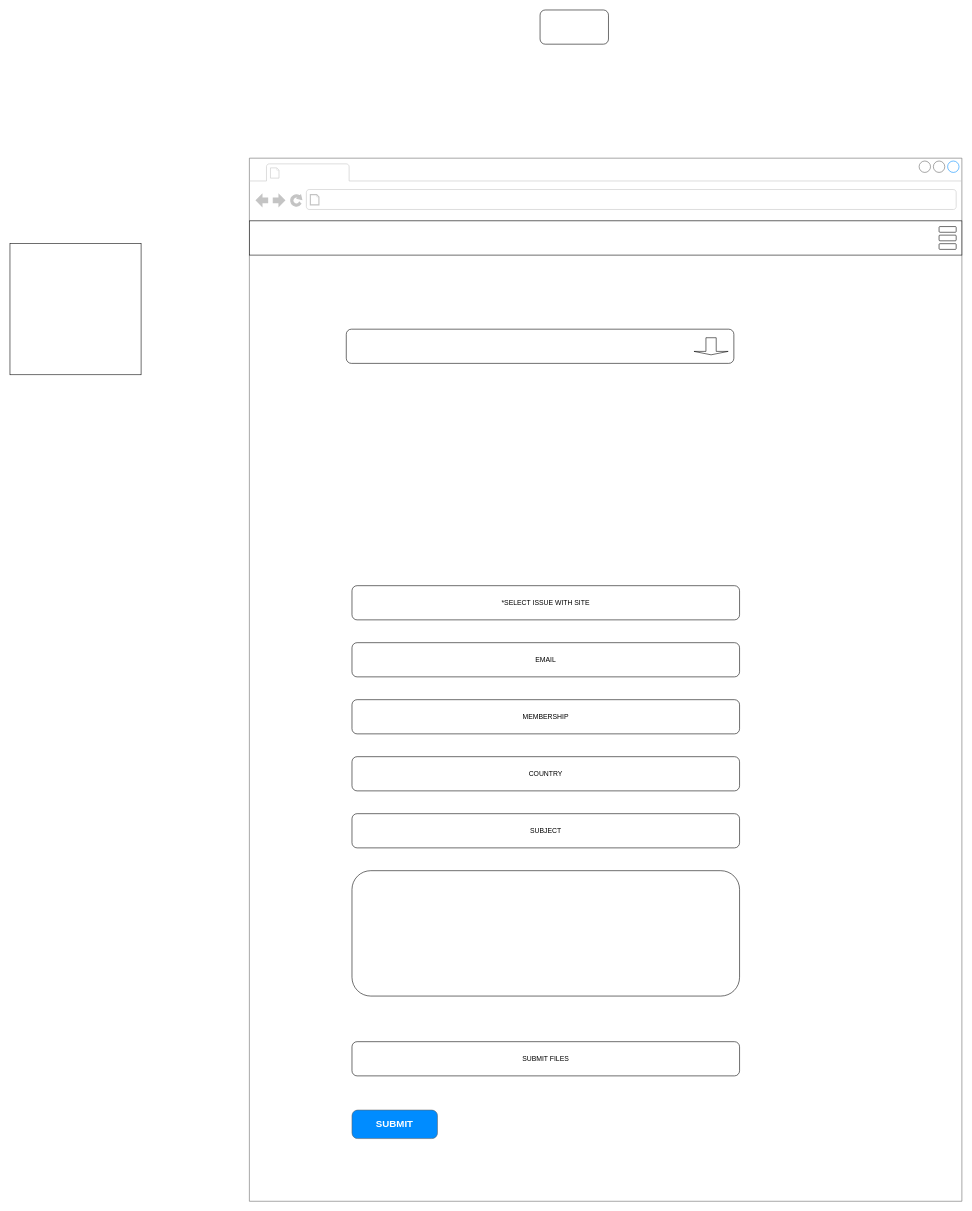
Some shapes in this 972 by 1211 pixel diagram are drawn without their labels. Here are the shapes that lost their labels. From the top down, the centre of each, then its label:
At point 574,26: "MOBILE".
At point 314,172: "Page 1".
At point 394,199: "https://www.draw.io".
At point 545,933: "TEXT BOX".
